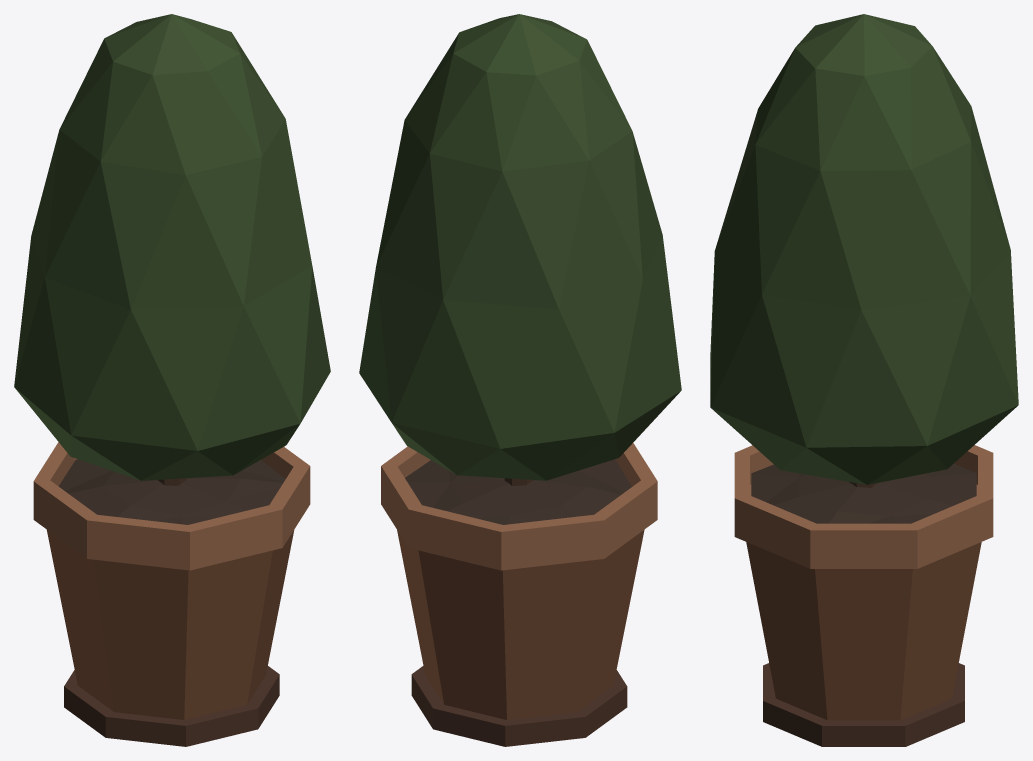
Rendered from FlowerpotBush.fbx.
3 renders of one model, left to right at view 1: azimuth 30°, elevation 25°; view 2: azimuth 150°, elevation 25°; view 3: azimuth 270°, elevation 25°, orthographic.
Visible parts, largest first — view 1: FlowerpotBush_Canopy, FlowerpotBush_Body, FlowerpotBush_Rim, FlowerpotBush_Soil, FlowerpotBush_Foot; view 2: FlowerpotBush_Canopy, FlowerpotBush_Body, FlowerpotBush_Rim, FlowerpotBush_Soil, FlowerpotBush_Foot; view 3: FlowerpotBush_Canopy, FlowerpotBush_Body, FlowerpotBush_Rim, FlowerpotBush_Soil, FlowerpotBush_Foot.
Part boxes in pixels (x1,y1,x2,y2): FlowerpotBush_Canopy: (14,14,330,480); FlowerpotBush_Body: (47,530,294,719); FlowerpotBush_Rim: (33,442,310,570); FlowerpotBush_Soil: (58,459,285,524); FlowerpotBush_Foot: (64,666,279,746); FlowerpotBush_Canopy: (359,14,681,480); FlowerpotBush_Body: (397,529,644,719); FlowerpotBush_Rim: (381,443,657,570); FlowerpotBush_Soil: (405,459,631,524); FlowerpotBush_Foot: (411,666,627,746); FlowerpotBush_Canopy: (710,14,1018,484); FlowerpotBush_Body: (746,542,981,720); FlowerpotBush_Rim: (734,445,993,568); FlowerpotBush_Soil: (751,464,976,523); FlowerpotBush_Foot: (763,663,964,746).
Bounding box in the file's own units: 2.35 × 5.88 × 2.38.
